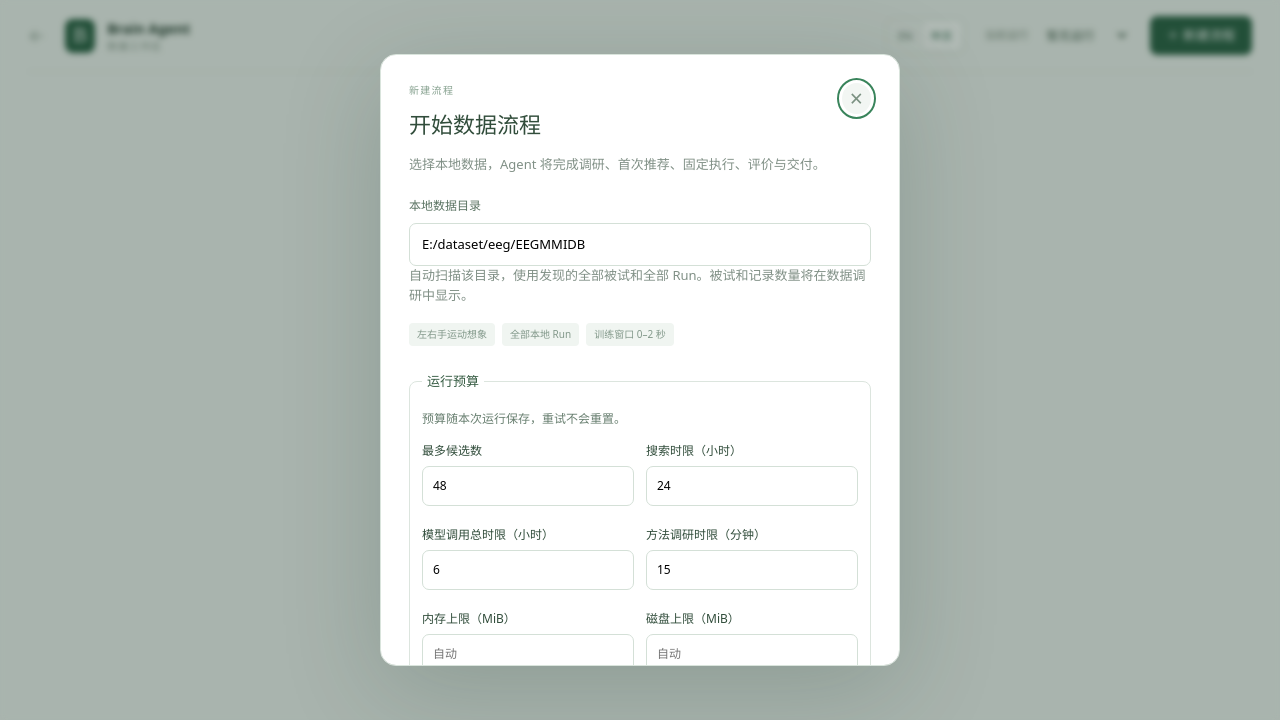
Test: WorkflowsView › rejects invalid budgets before creating a workflow
Replace the text in the number field labelled "最多候选数" with "0" at (528, 486), box [422,466,634,506]
(page scrolled)
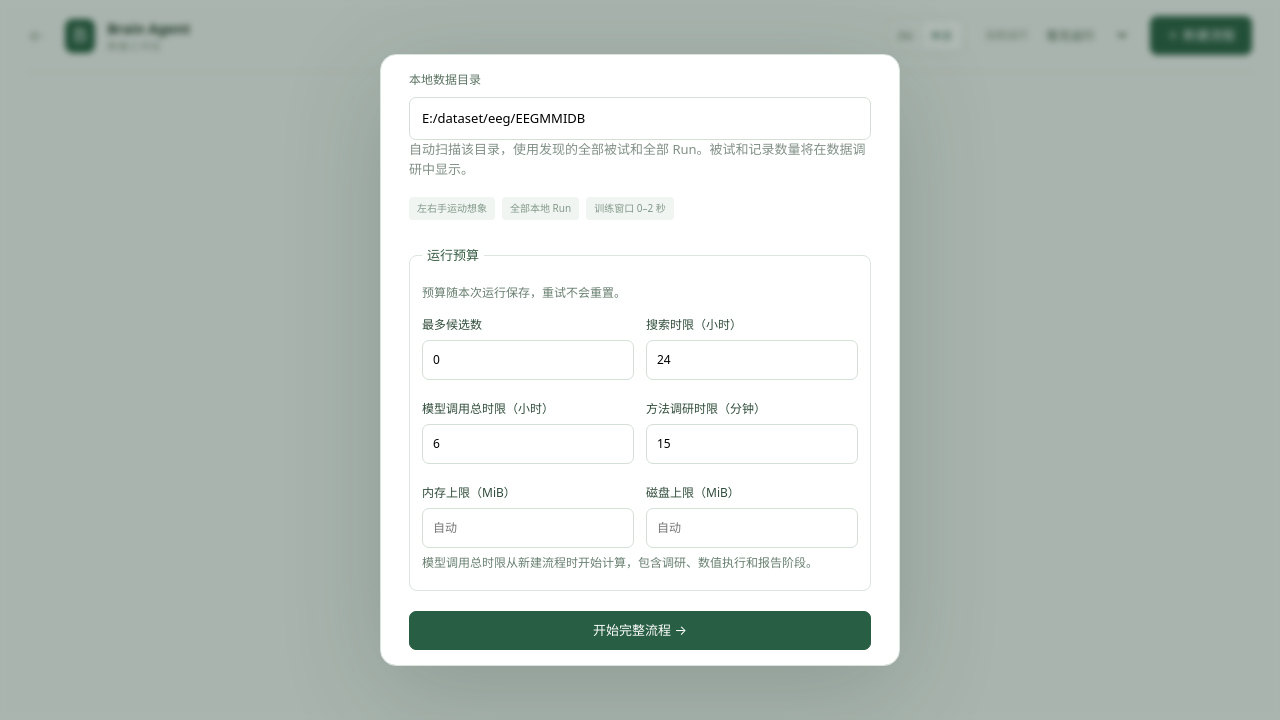
Submit the form, box [409,70,871,650]
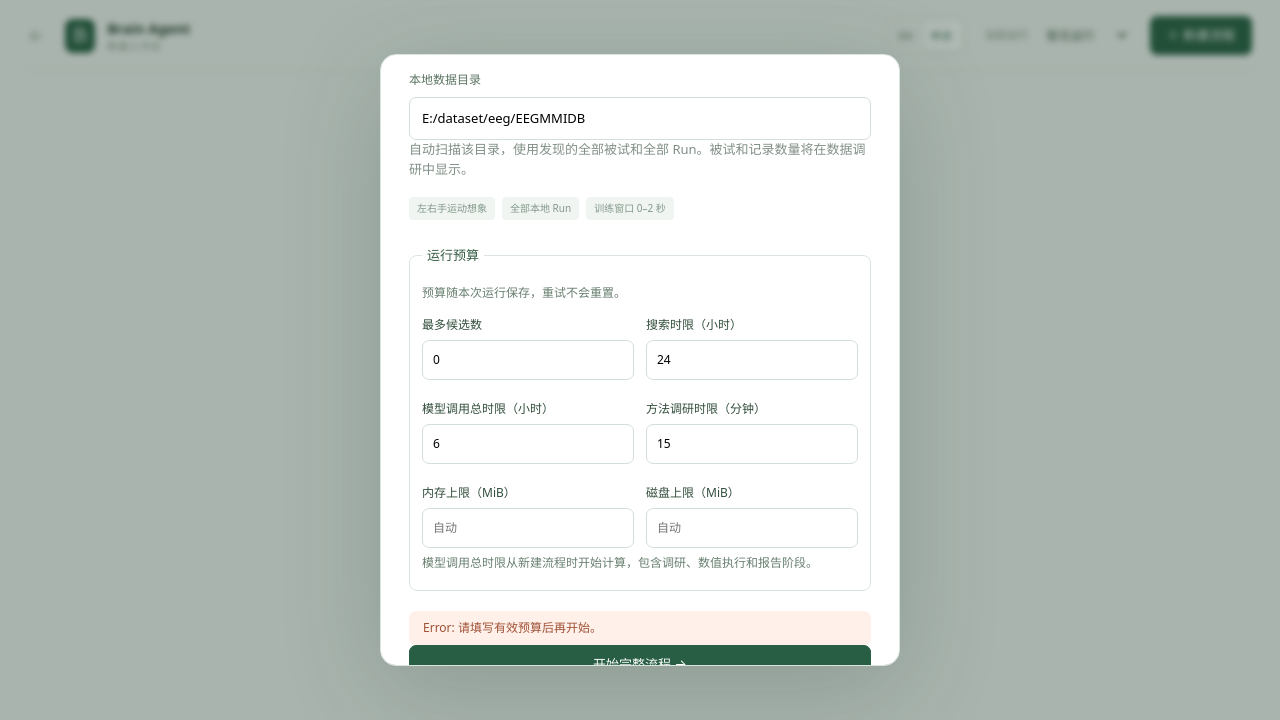
expect the text "请填写有效预算" is shown: met, box [423,618,602,636]
